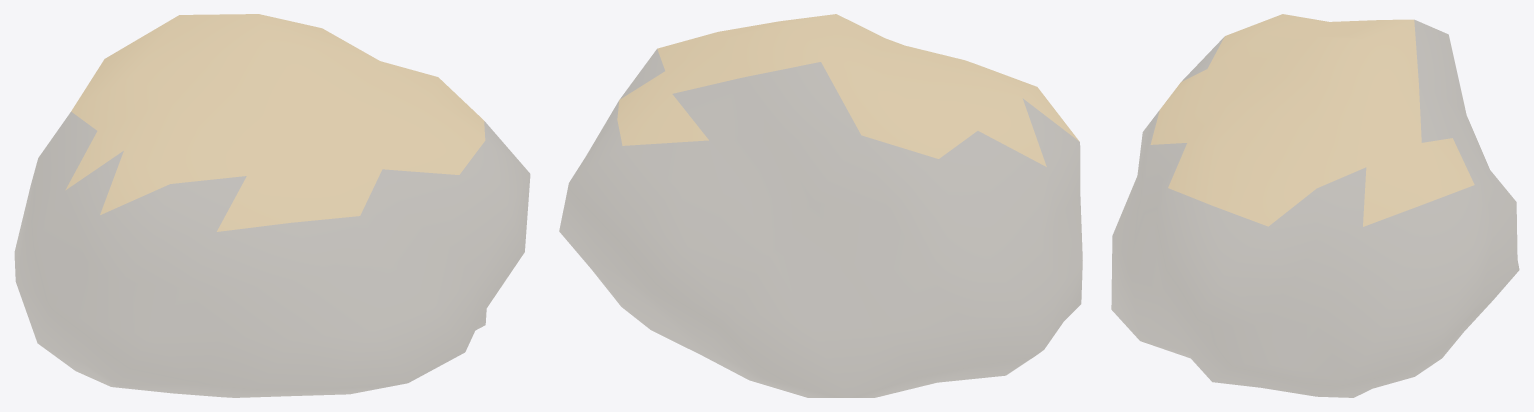
File: Blender_MossRock_3.glb
3 views of the same model, side by side, from view 1: azimuth 30°, elevation 25°; view 2: azimuth 150°, elevation 25°; view 3: azimuth 270°, elevation 25° (orthographic). The views are drawn at different scales.
Parts seen in each view (by area): view 1: Blender_MossRock_3; view 2: Blender_MossRock_3; view 3: Blender_MossRock_3.
Part boxes in pixels (<box>): Blender_MossRock_3: <box>14,14,530,397</box>; Blender_MossRock_3: <box>559,14,1082,397</box>; Blender_MossRock_3: <box>1111,14,1519,397</box>.
Size of the model in its own units: 1.94 by 1.29 by 1.65.
